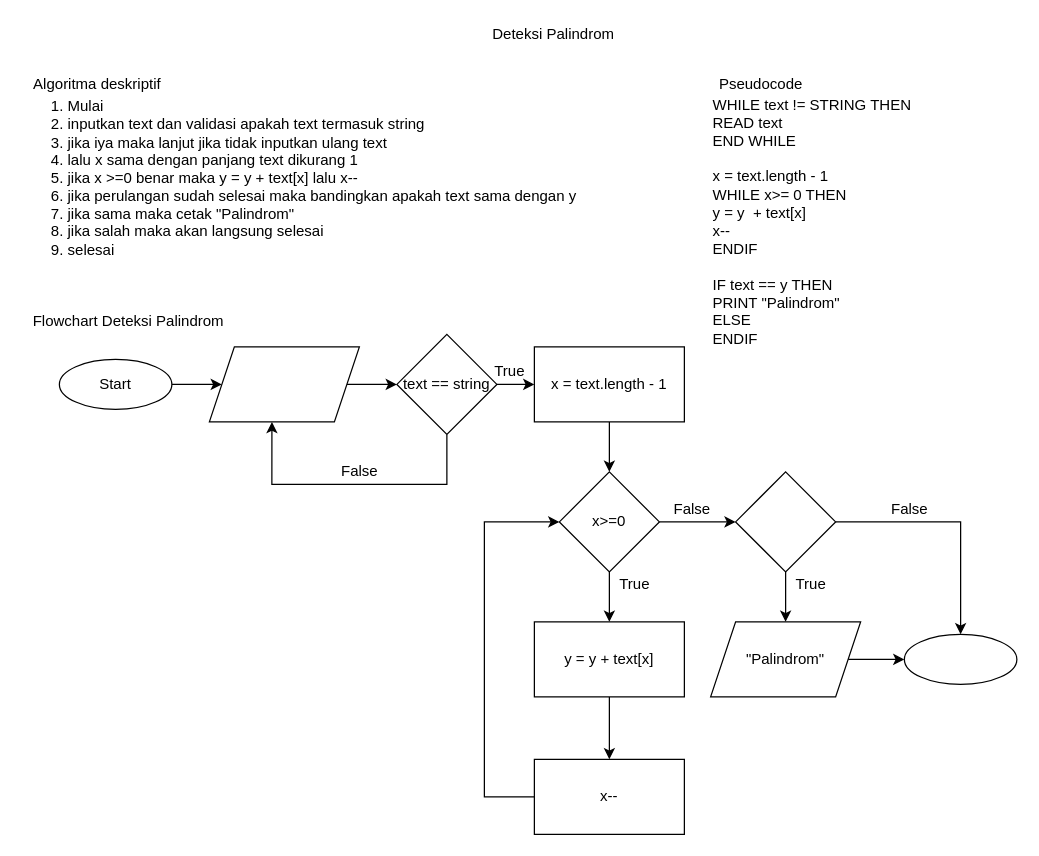
Image size: 1039x856. Some labels were removed from this diagram. The centre of each missing label's shape, as x and y in pixels:
"text": point 283,384
End: point 960,658
text == y: point 785,521
